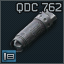KAC QDC 7.62x51 muzzle brake kit: (0, 0, 64, 64)
